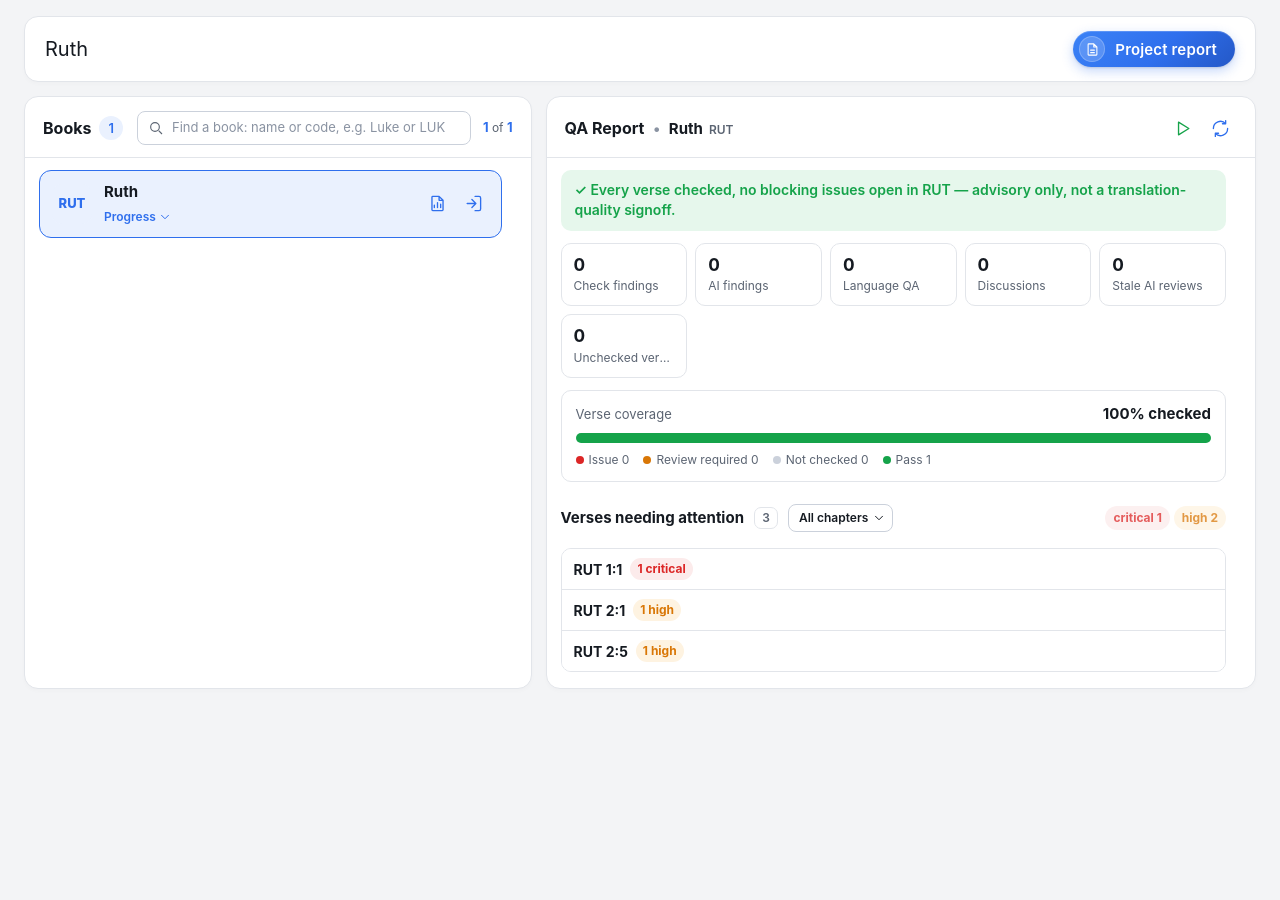
ProjectDashboard › filters the queue by chapter from a dropdown, and clears it
Expected: the text "RUT 1:1" is shown 3 times, [574,559,622,580]; [574,600,625,621]; [574,641,628,662]
Step 1. Click the button "All chapters" → (841, 518), box [789,505,892,531]
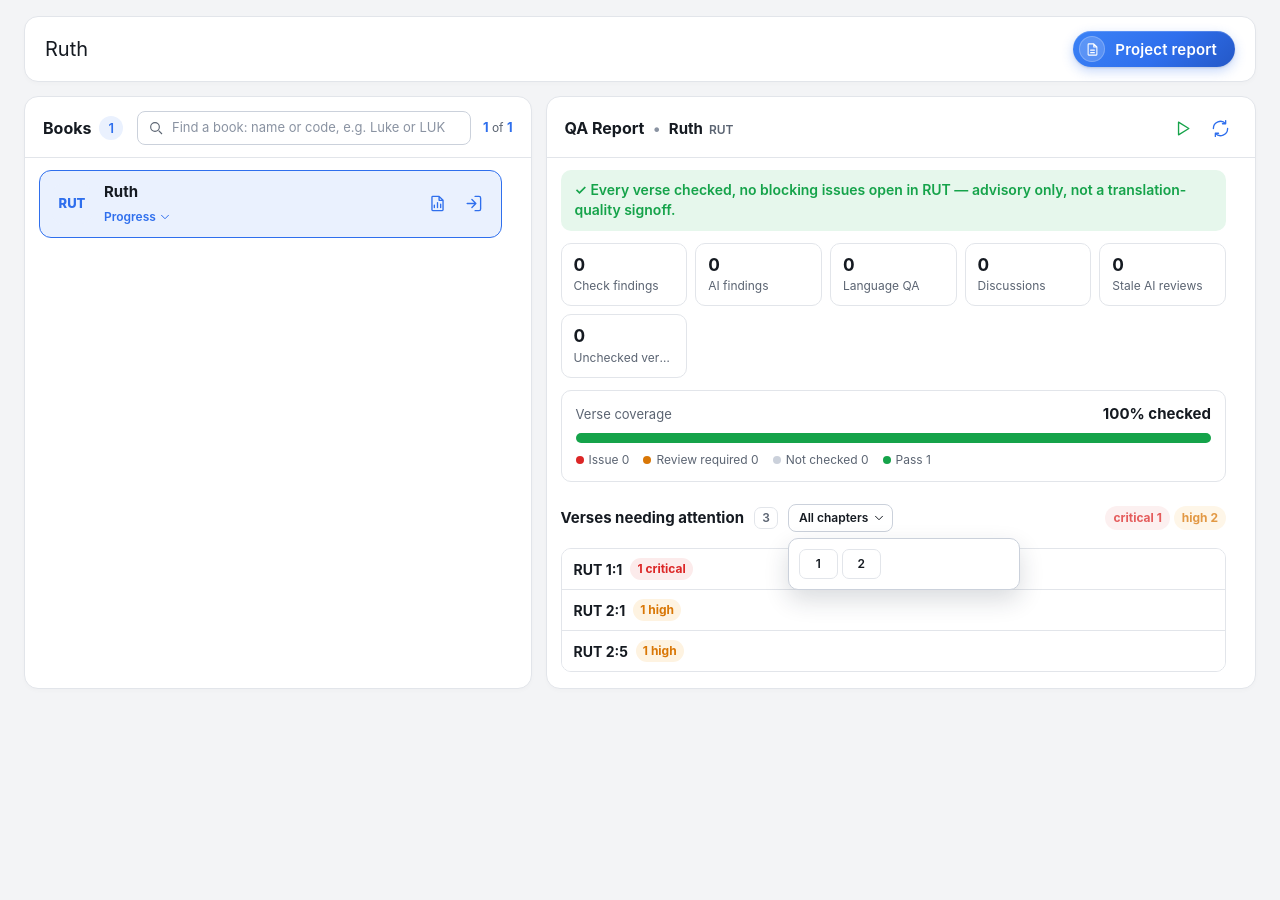
Step 2. Click the option "2" → (861, 564), box [842,549,881,579]
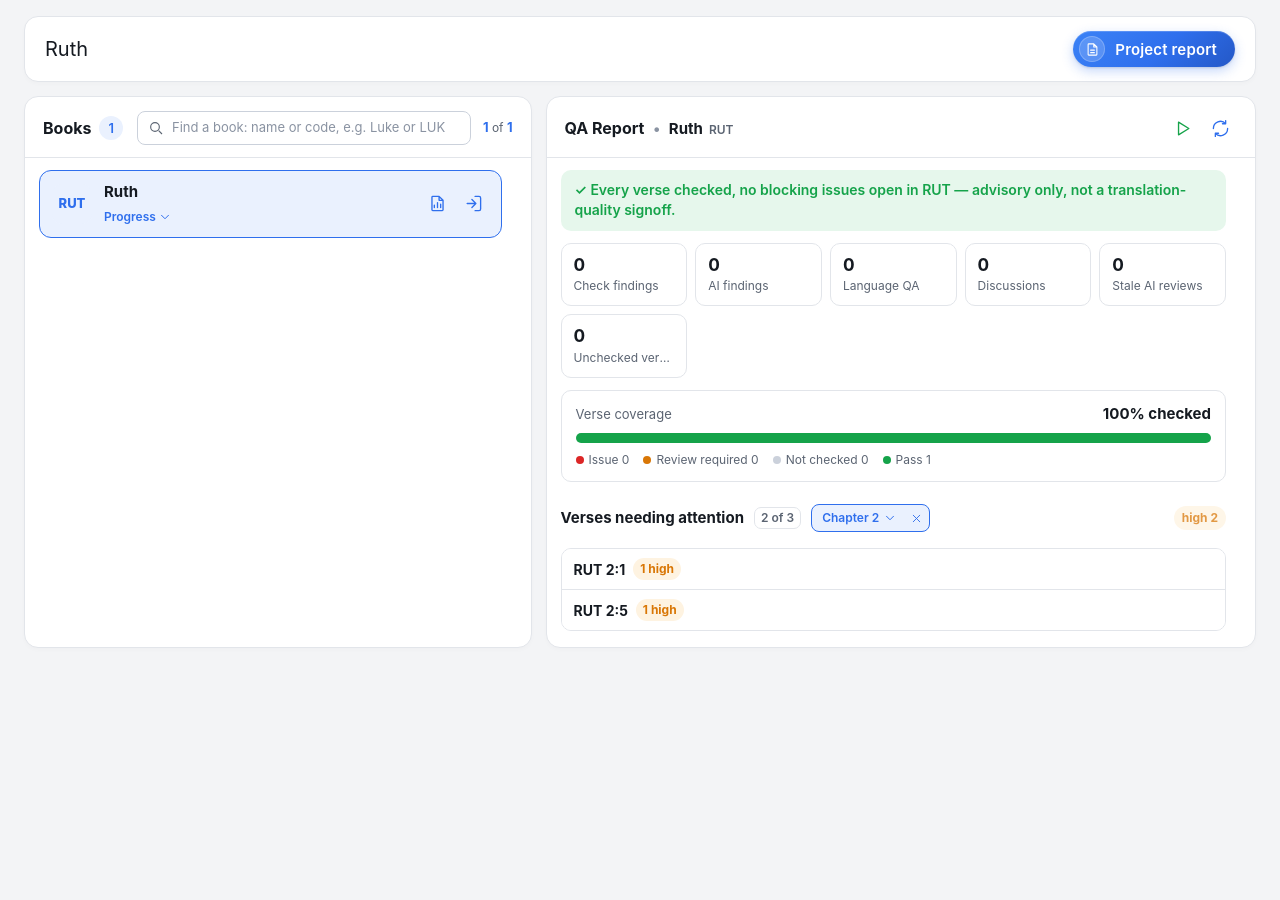
Now the text "RUT 2:1" is shown 2 times, box [574,559,625,580]; [574,600,628,621]
Now the button "RUT 1:1" is gone
Now the button "Chapter 2" is shown, box [812,505,903,531]
Step 3. Click the button named "Clear chapter filter" → (916, 518), box [903,505,929,531]
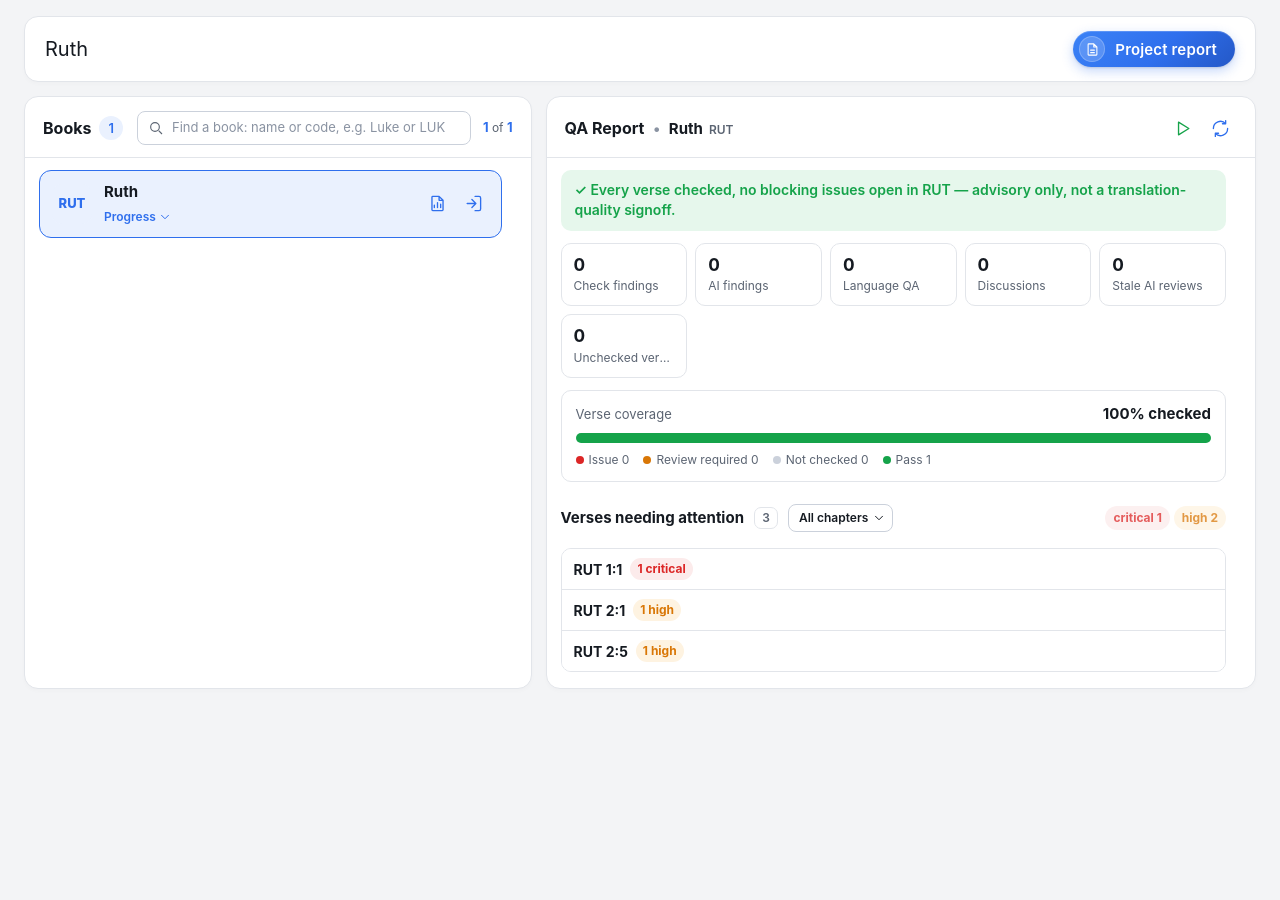
Now the text "RUT 1:1" is shown 3 times, box [574,559,622,580]; [574,600,625,621]; [574,641,628,662]
